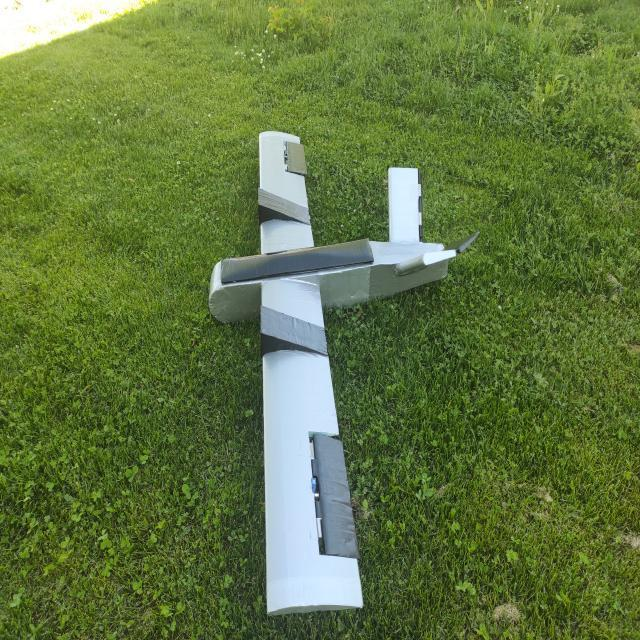UAV: (226, 71, 496, 640)
